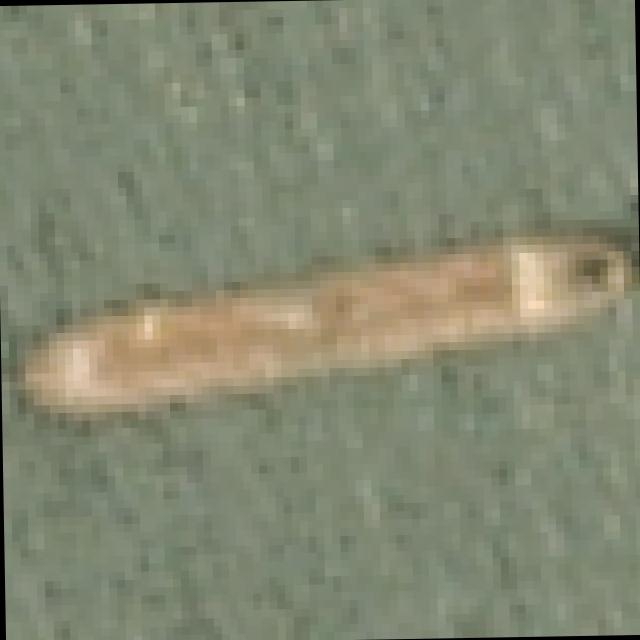ship: (0, 209, 640, 461)
